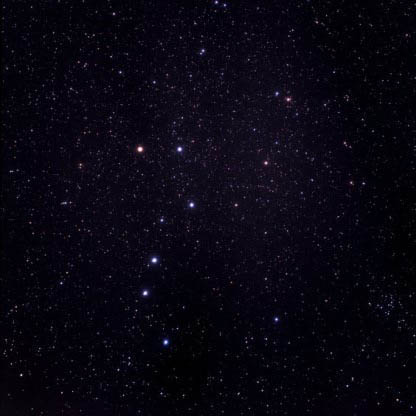Ursa Major: (151, 326, 178, 358), (127, 136, 150, 165), (141, 250, 166, 273), (168, 138, 191, 160), (133, 283, 154, 305), (181, 196, 199, 218), (151, 211, 169, 230)
